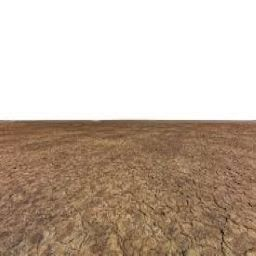dirt: (1, 121, 253, 254)
